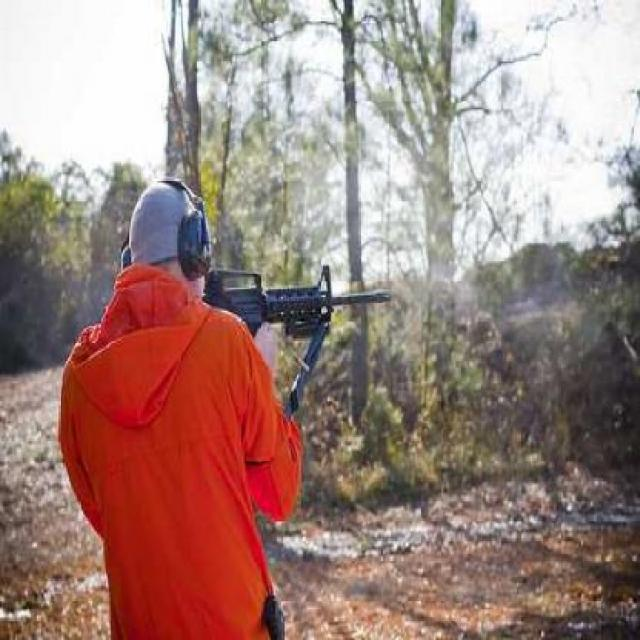weapon: (178, 254, 396, 344)
